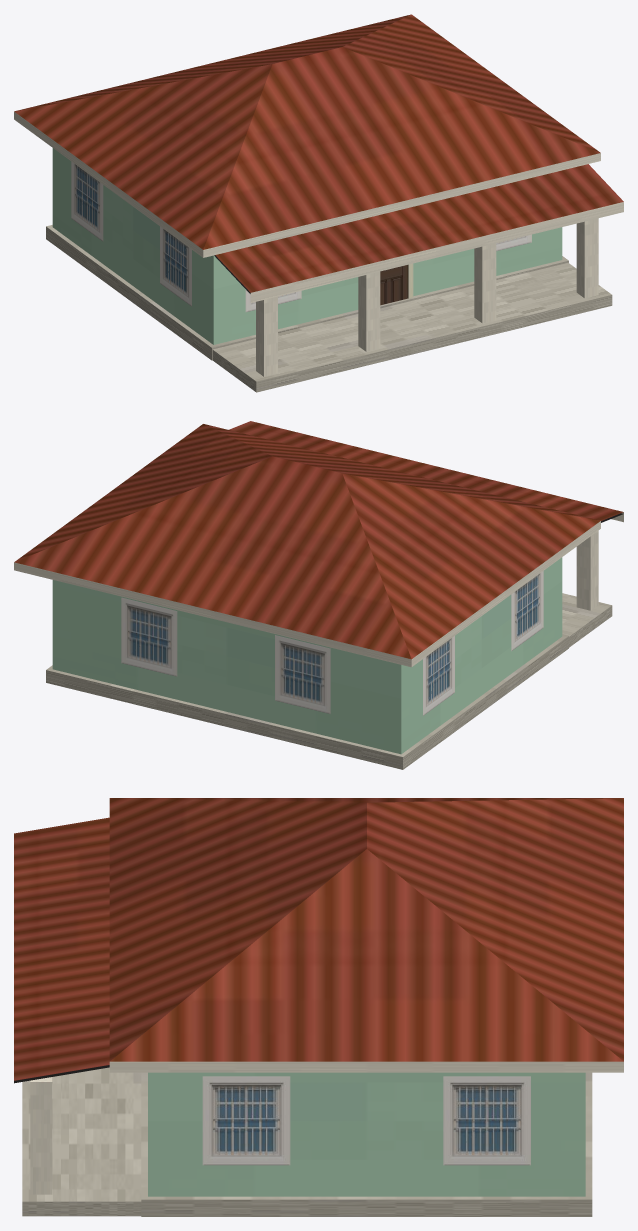
The model's file is bungalow-mint-far.glb.
The picture shows the model from 3 angles, top to bottom: view 1: azimuth 30°, elevation 25°; view 2: azimuth 150°, elevation 25°; view 3: azimuth 270°, elevation 25°; orthographic projection. The views are drawn at different scales.
Visible parts, largest first — view 1: bungalow-mint; view 2: bungalow-mint; view 3: bungalow-mint.
Boxes of the visible parts, x1,y1,x2,y2 form: bungalow-mint: (14,14,623,392); bungalow-mint: (14,421,623,769); bungalow-mint: (14,798,623,1216).
Bounding box in the file's own units: 11.4 × 5.5 × 11.15.
1 material, 1 textured.
